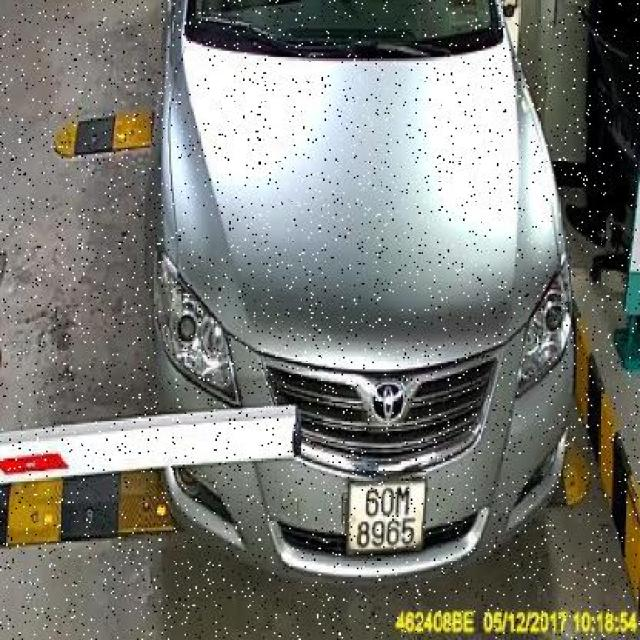number_plate: (345, 471, 426, 558)
